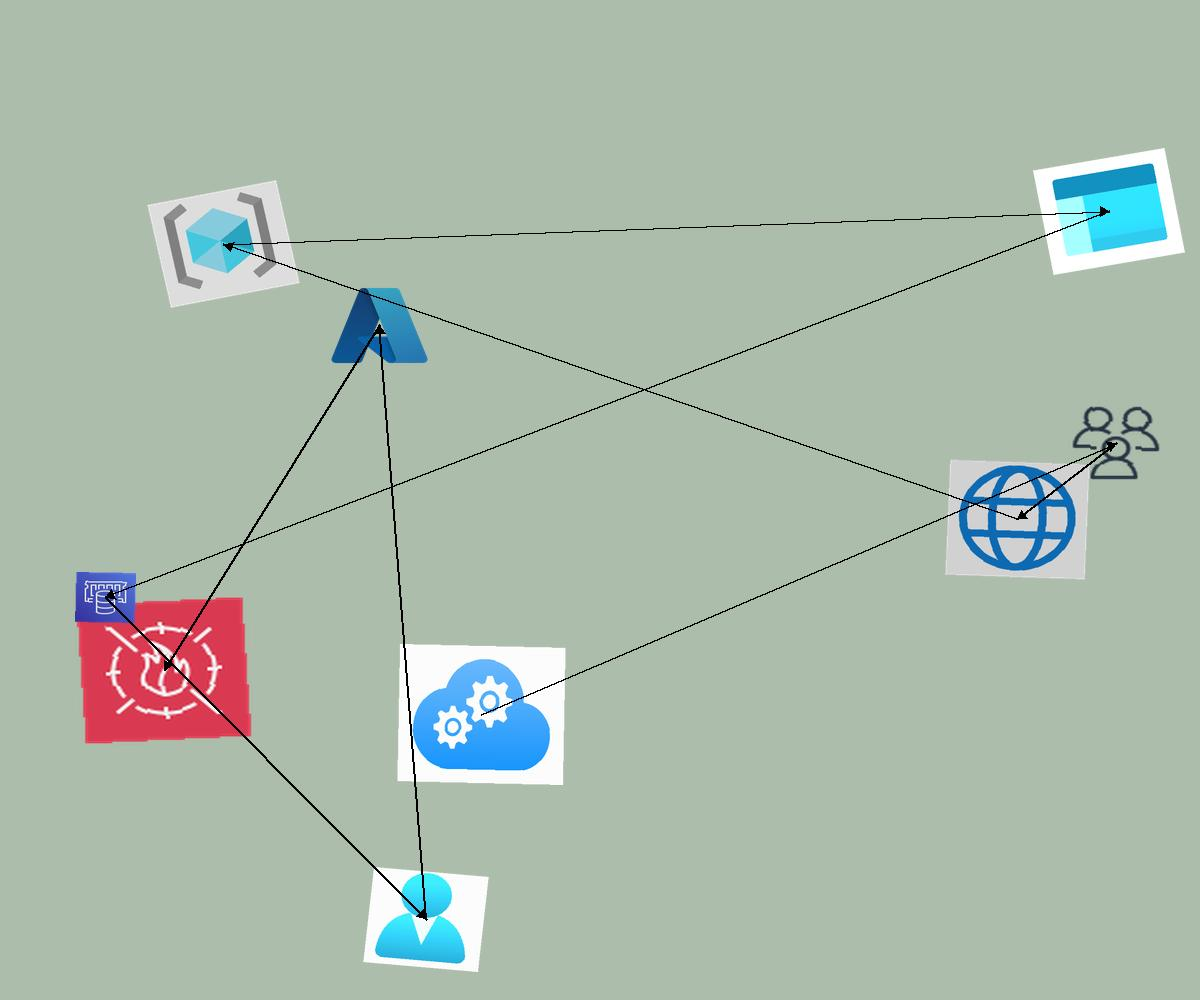AWS-ElastiCache: (75, 572, 136, 623)
AWS-Res_Users: (1067, 402, 1165, 484)
AWS-WAF: (75, 596, 253, 745)
Azure_cloud_services: (397, 644, 566, 785)
Azure_http: (945, 459, 1090, 580)
Azure_management-portal: (1033, 148, 1185, 275)
Azure_resource_group: (147, 180, 300, 308)
Azure_services: (327, 282, 432, 369)
Azure_users: (363, 867, 489, 972)
